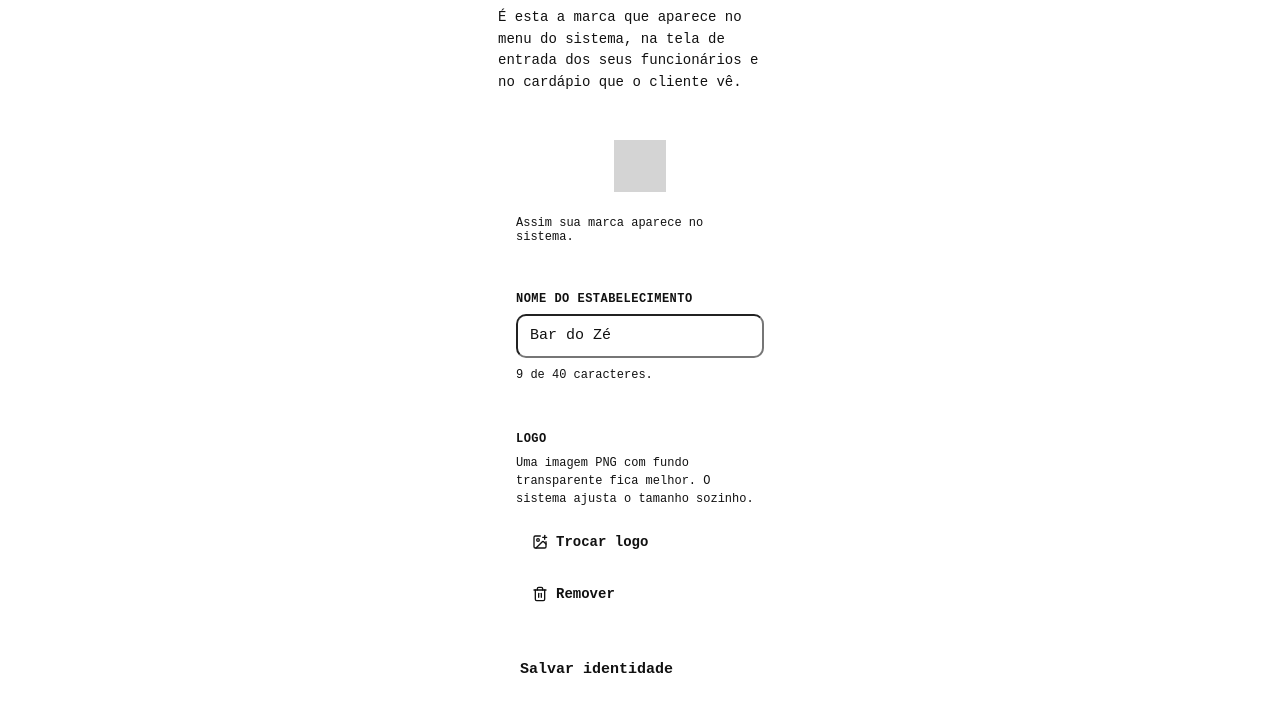
Test case: IdentidadeTab, logo › desistir da remoção mantém o logo
Click the button "Remover".
click(573, 594)  # box 516,572 -> 631,616
(page scrolled)
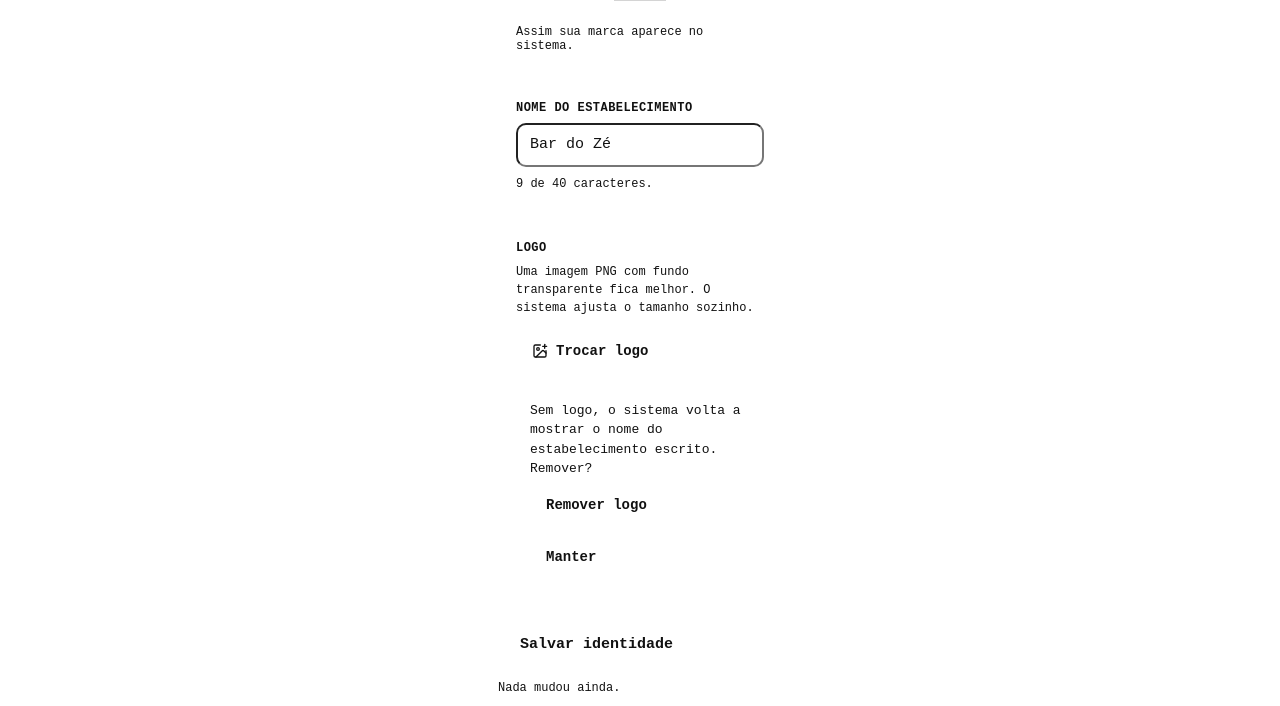
Click the button "Manter".
click(571, 557)  # box 530,535 -> 612,579
(page scrolled)
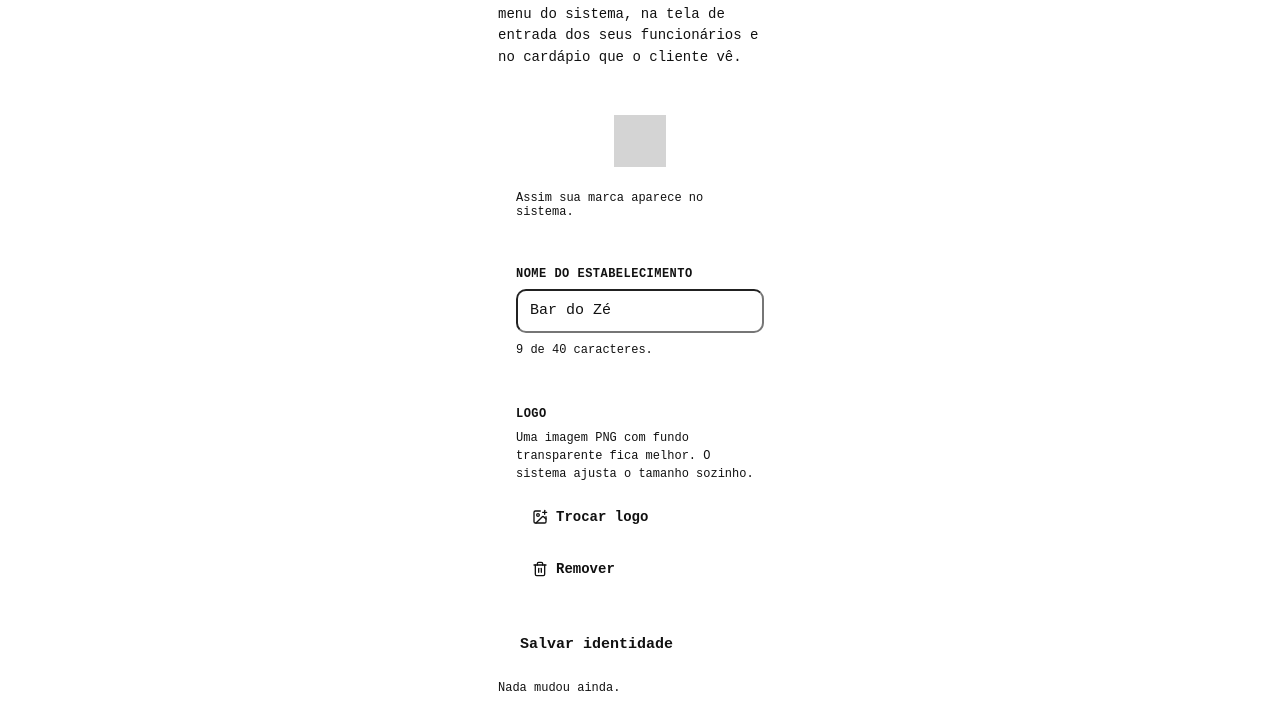
Expected: the dialog is gone
